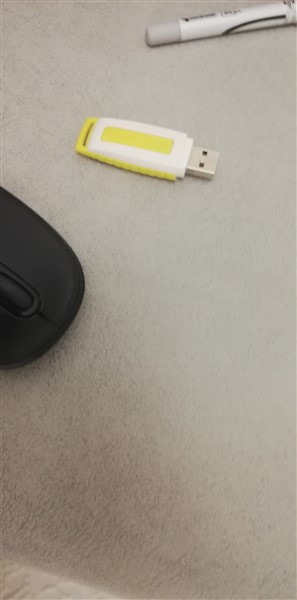flash disk: (72, 110, 234, 201)
mouse: (1, 176, 87, 382)
pilot kalem: (143, 1, 297, 46)
